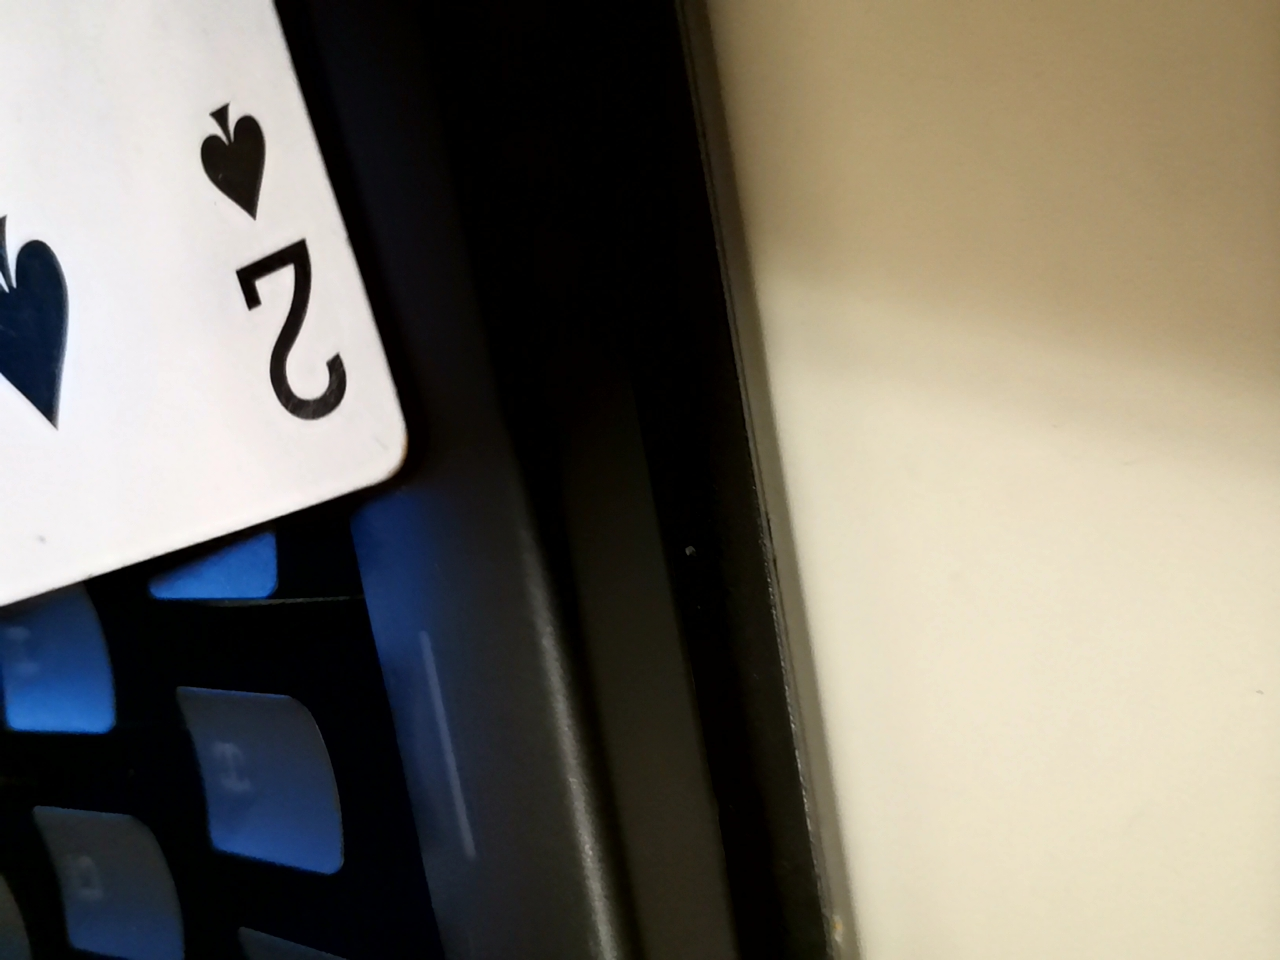ht 2: (0, 0, 401, 708)
